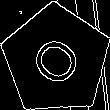O_SE: (24, 28, 88, 92)
